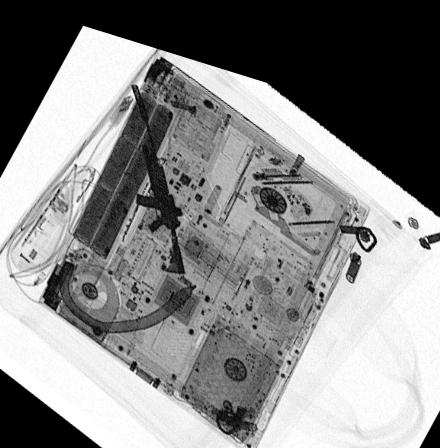Gun: (130, 74, 188, 261)
